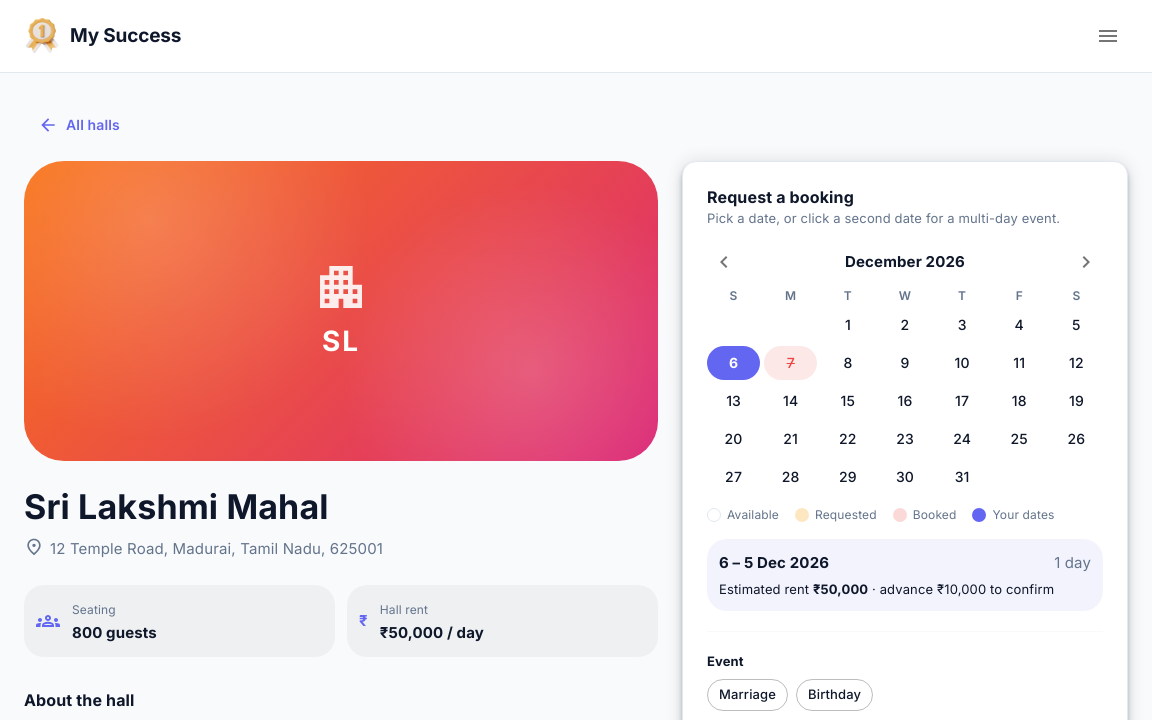
Test: Mahal booking › visitor sends a booking request for a free date and gets a reference
The image size is (1152, 720).
Expected: the heading "Sri Lakshmi Mahal" is shown, x1=24 y1=486 x2=329 y2=527
Expected: the text "Estimated rent ₹50,000 · advance ₹10,000 to confirm" is shown, x1=719 y1=579 x2=1091 y2=599
Step 1. Click the button "Marriage" → point(748, 695), box x1=707 y1=679 x2=788 y2=711
(page scrolled)
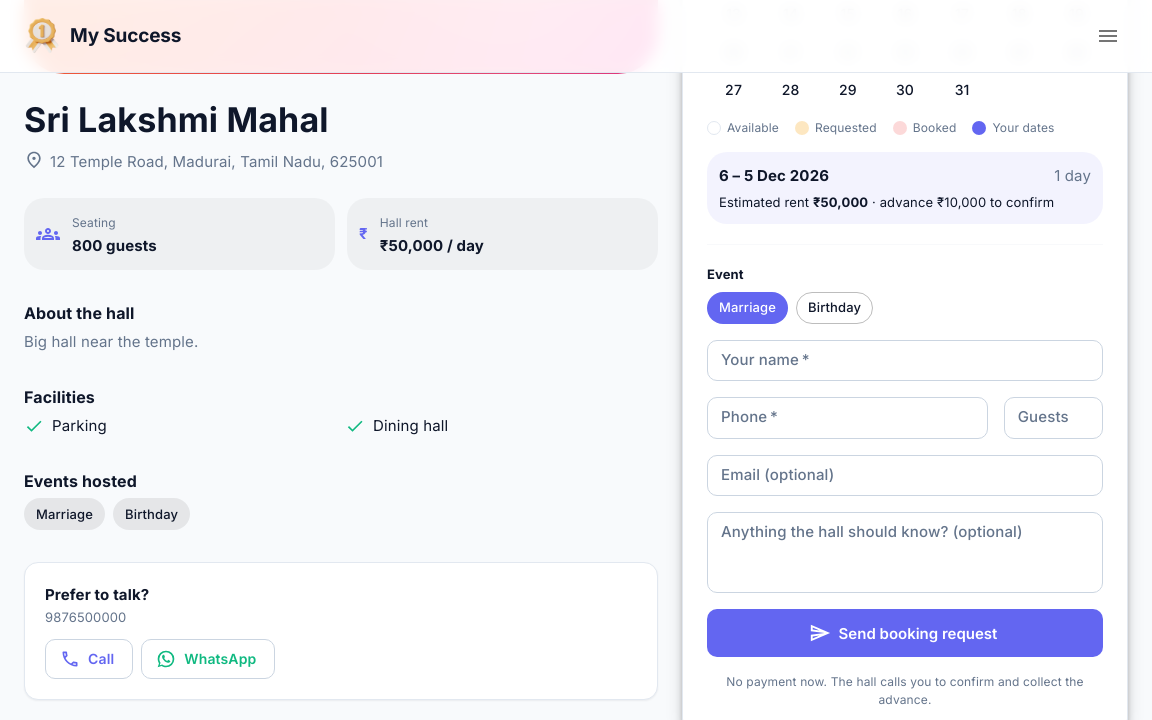
Step 2. Type "Karthik" into the field labelled "Your name *" → point(905, 360), box x1=707 y1=340 x2=1103 y2=381
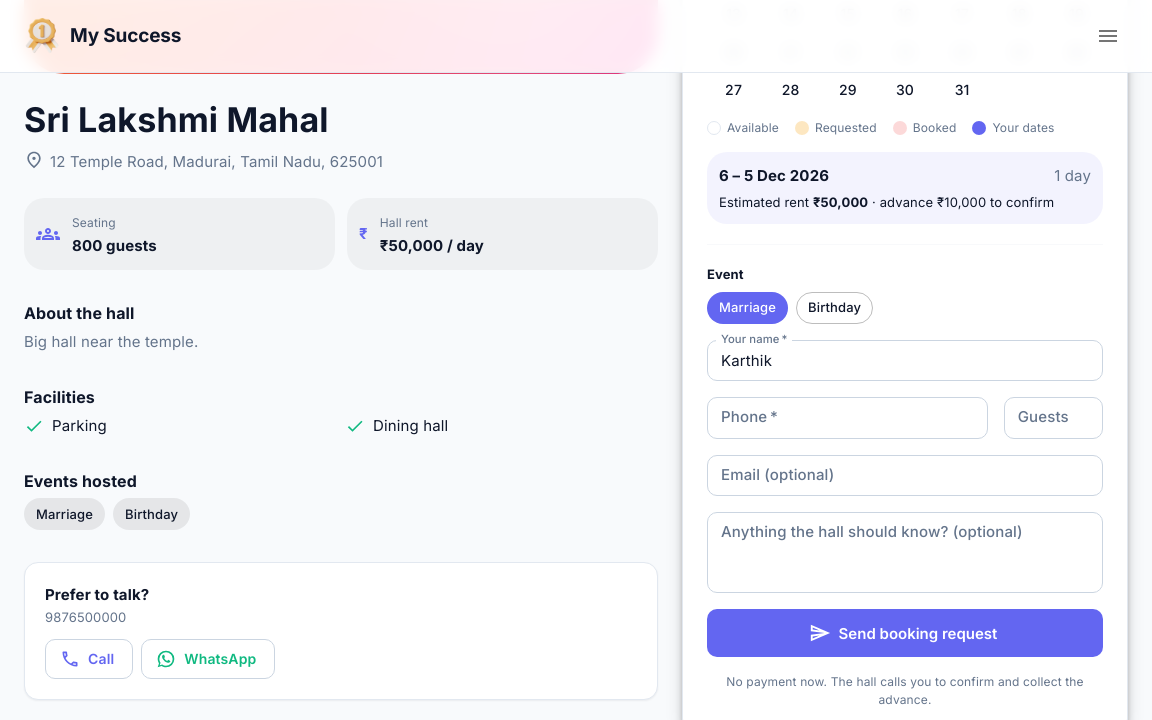
Step 3. Type "9876543210" into the field labelled "Phone *" → point(847, 418), box x1=707 y1=397 x2=988 y2=439
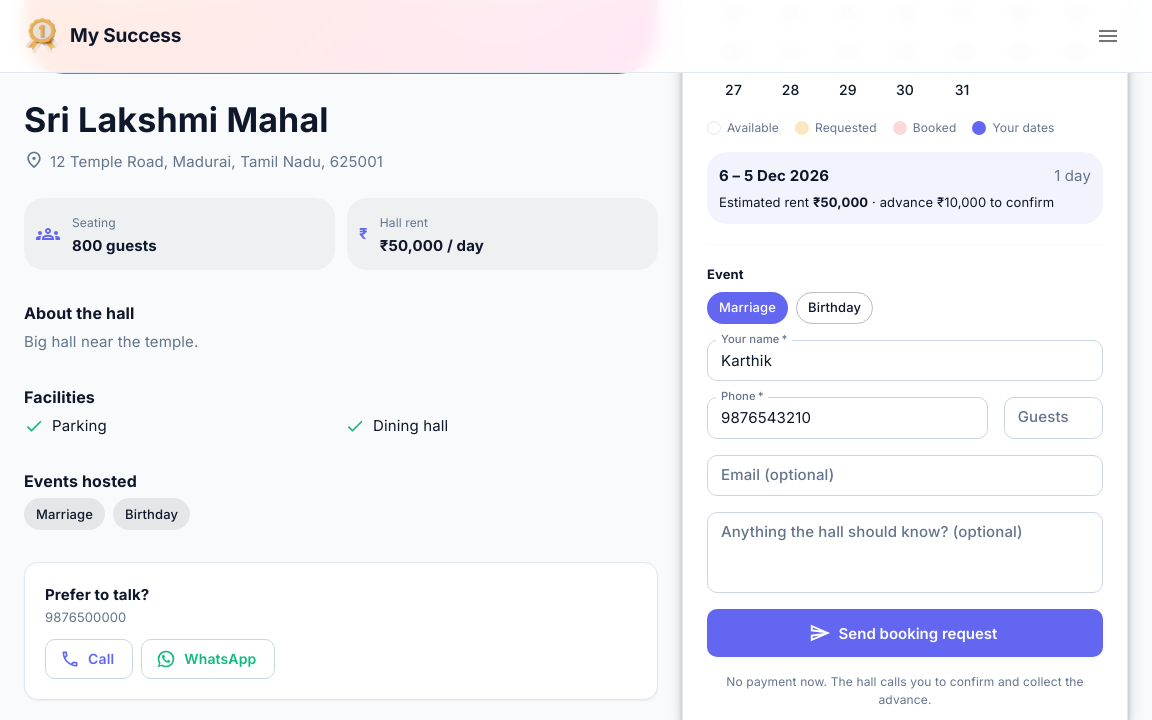
Step 4. Type "500" into the field labelled "Guests" → point(1053, 418), box x1=1004 y1=397 x2=1103 y2=439
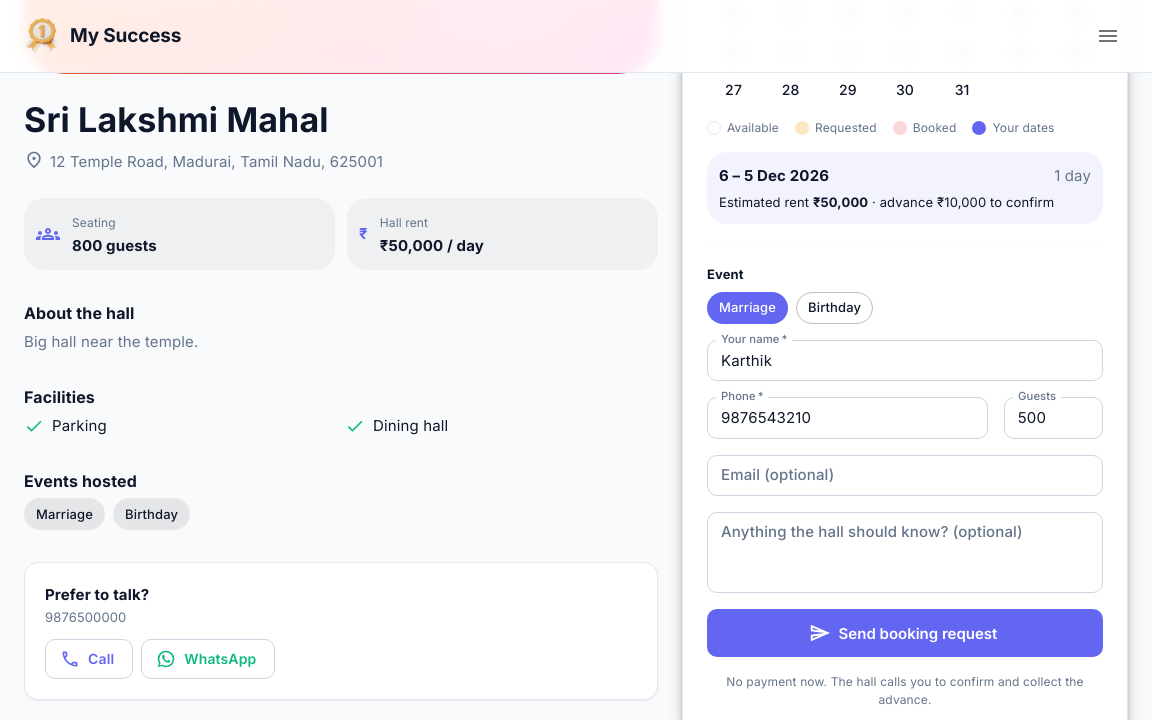
Step 5. Click the button "Send booking request" → point(905, 633), box x1=707 y1=609 x2=1103 y2=657
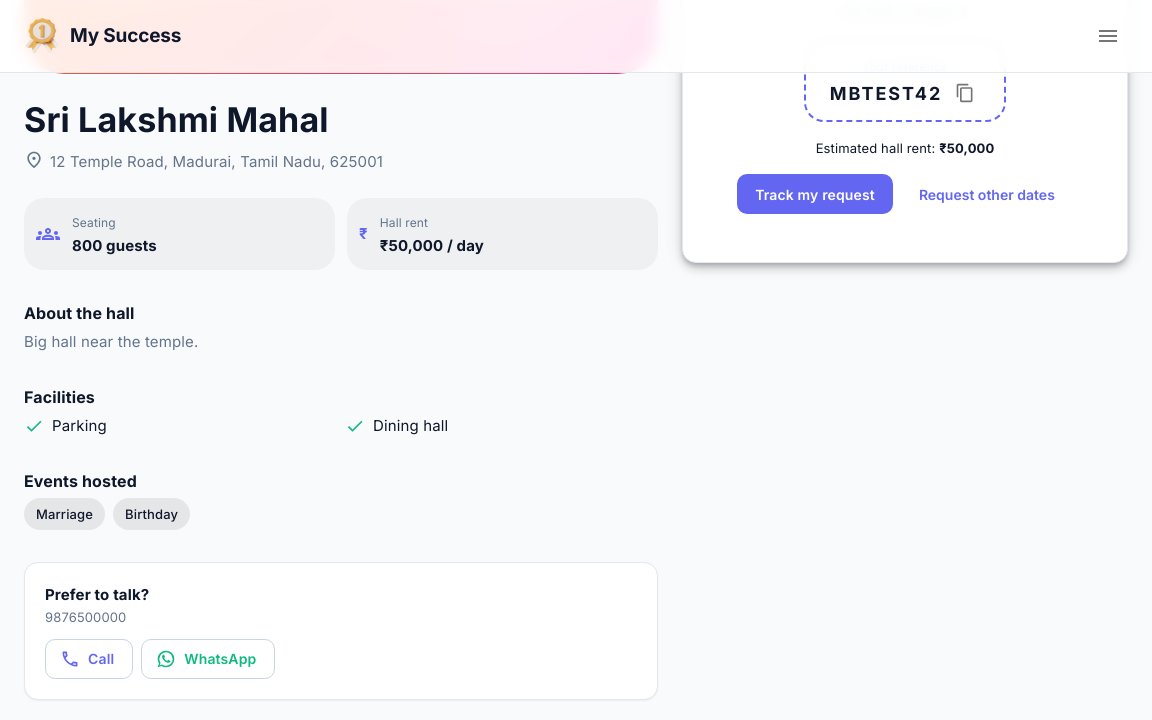
Expected: the heading "MBTEST42" is shown, x1=830 y1=81 x2=942 y2=106
